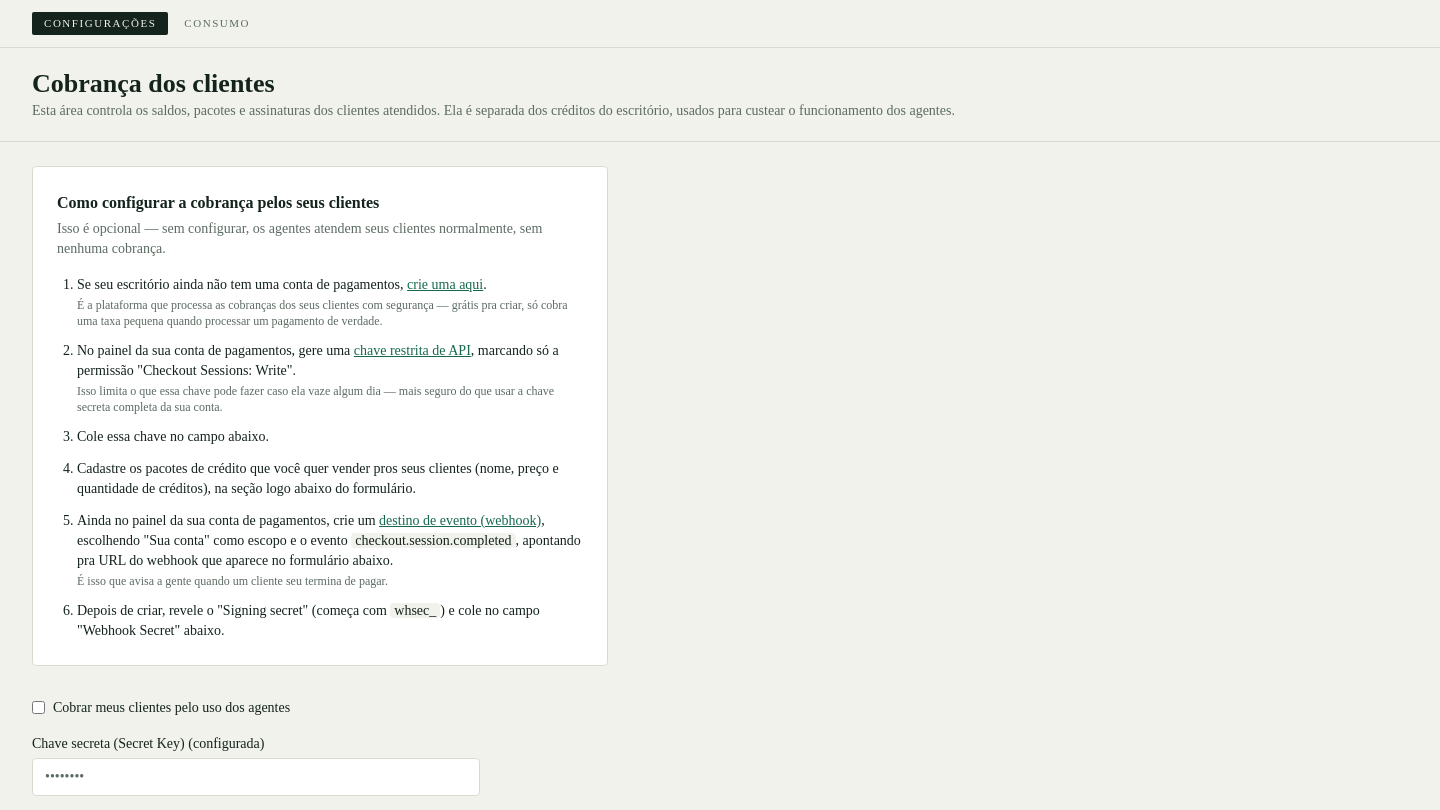
it: EndCustomerBillingTabs › aba Consumo mostra o relatório de conversas
Check: the text "Chave secreta (Secret Key) (configurada)" is shown, box [32,734,480,796]
Click the button "Consumo" at (217, 24), box [172,12,262,35]
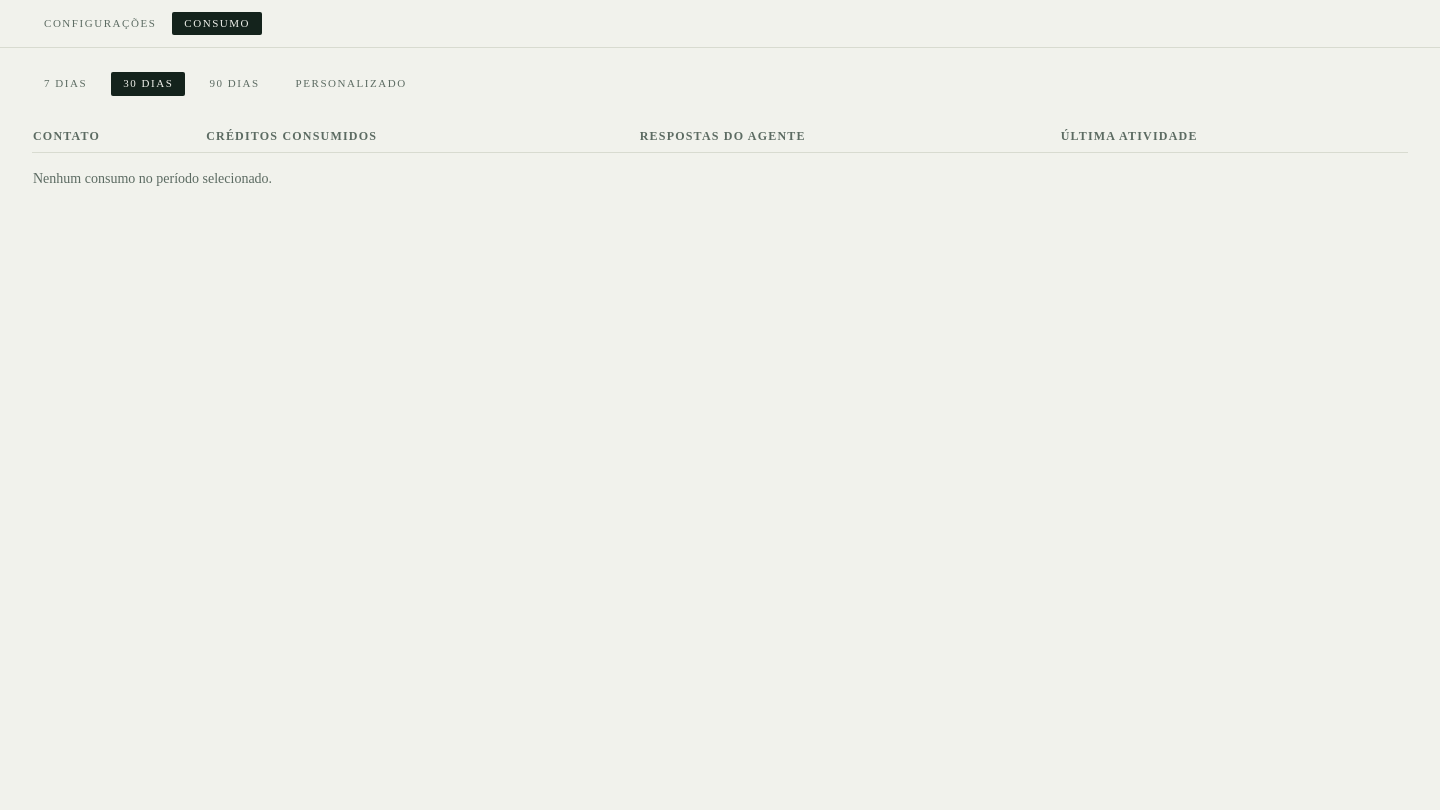
Check: the text "Nenhum consumo no período selecionado." is shown, box [32,152,1408,205]
